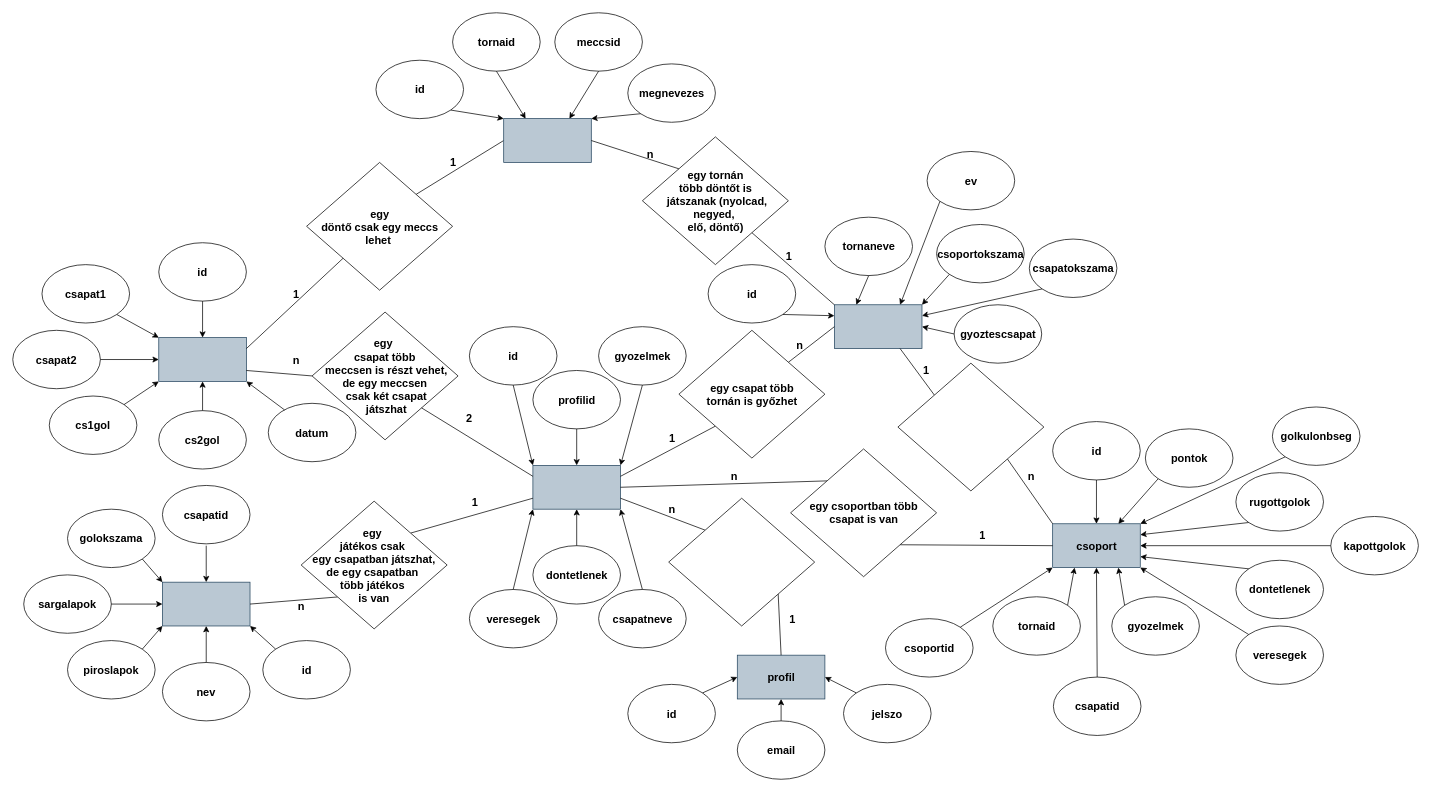
The diagram is 1432 pixels wide and 792 high, and some of its shapes have lost their labels. Each missing label, with the centre of its shape:
"csapat" belongs at point (576, 487).
"donto" belongs at point (547, 140).
"egy profilhoz több csapat is tartozhat" belongs at point (741, 561).
"egy tornán több csoport is részt vehet" belongs at point (970, 426).
"jatekos" belongs at point (206, 603).
"meccs" belongs at point (202, 359).
"torna" belongs at point (878, 326).
